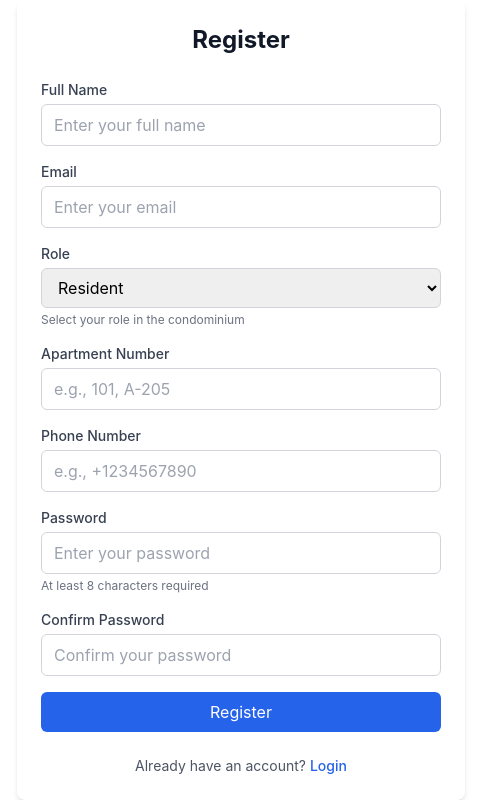
Test: RegisterForm › handles registration error
The image size is (483, 800).
# Fill out valid form
Step 1. Type "John Doe" into the field labelled "Full Name" → (241, 125), box [41, 104, 441, 146]
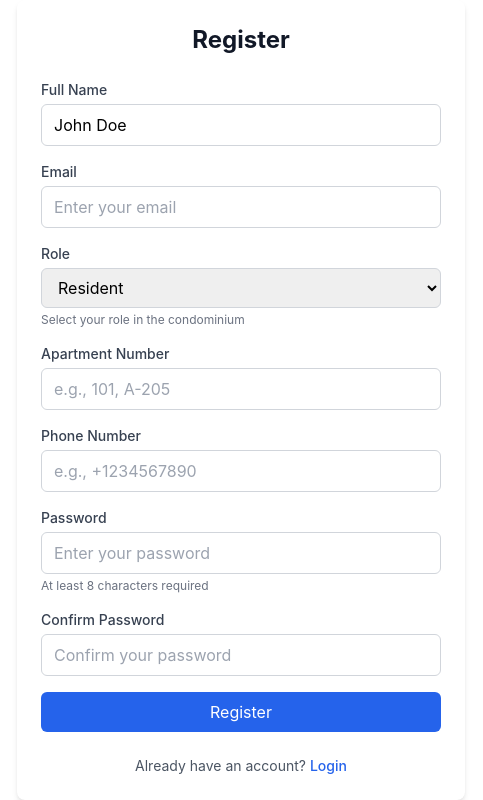
Step 2. Type "john@example.com" into the field labelled "Email" → (241, 207), box [41, 186, 441, 228]
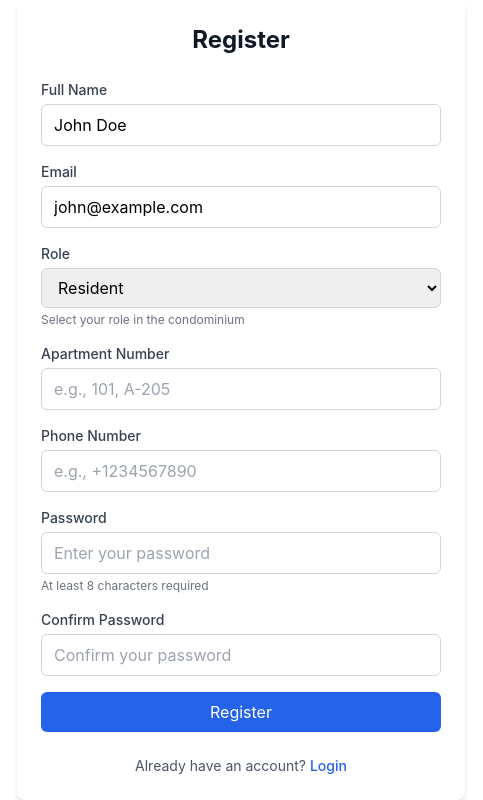
Step 3. Type "password123" into the password field labelled "Password" → (241, 553), box [41, 532, 441, 574]
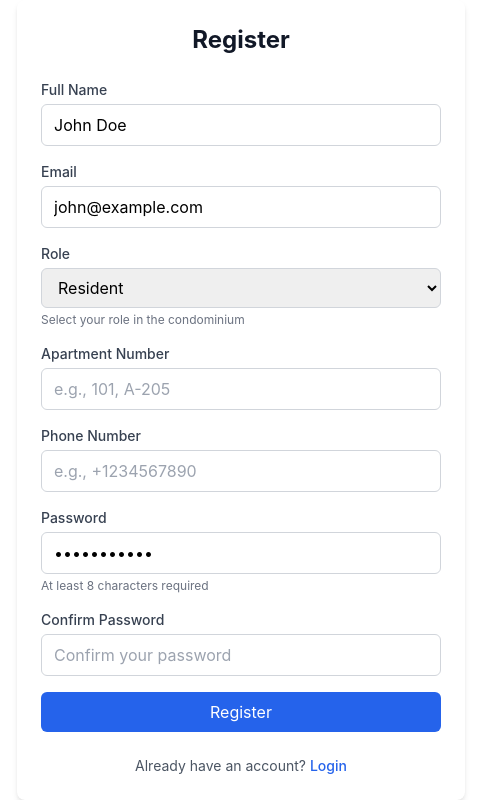
Step 4. Type "password123" into the password field labelled "Confirm Password" → (241, 655), box [41, 634, 441, 676]
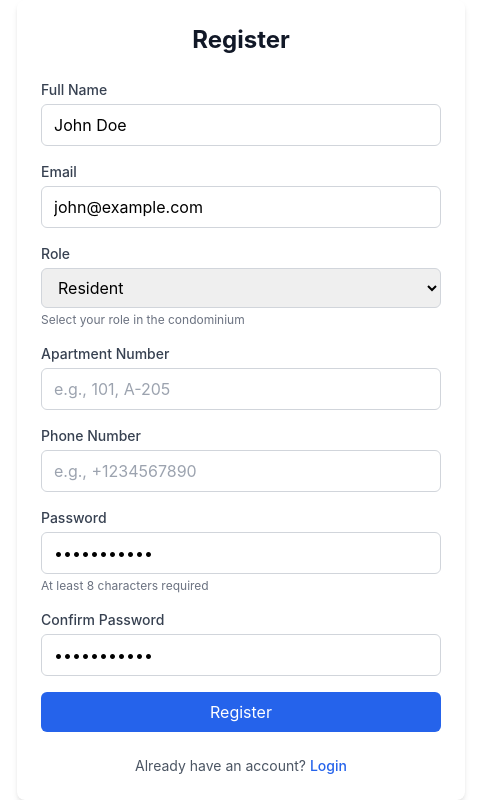
Step 5. Click the button "Register" → (241, 712), box [41, 692, 441, 732]
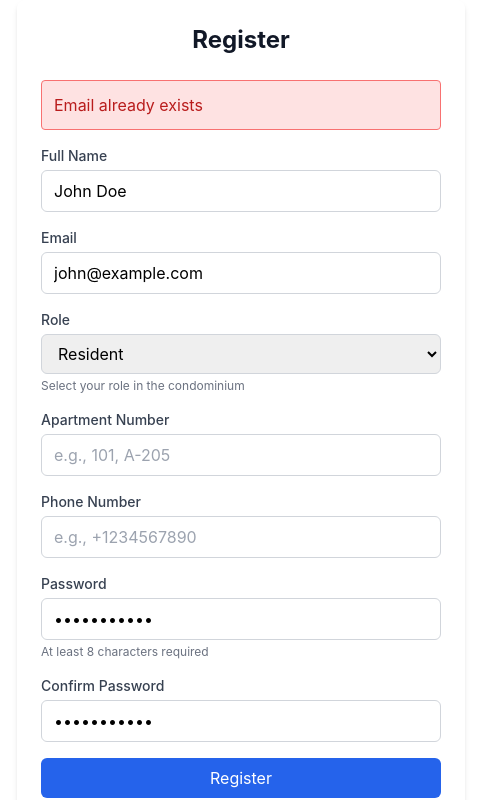
Now the text "Email already exists" is shown, box [41, 80, 441, 130]
